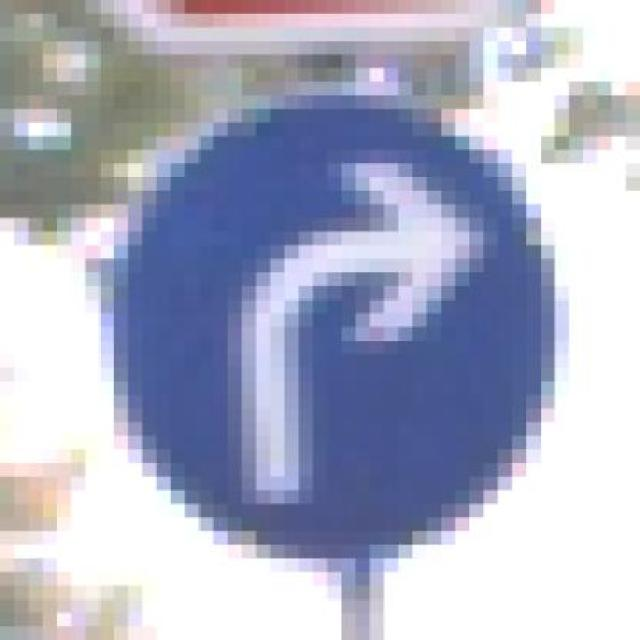Turn right ahead: (85, 68, 569, 558)
